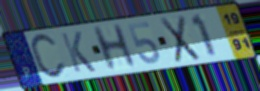1: (189, 13, 221, 59)
5: (125, 20, 162, 66)
C: (29, 32, 68, 81)
H: (90, 22, 139, 73)
K: (58, 30, 98, 74)
X: (158, 14, 203, 65)
